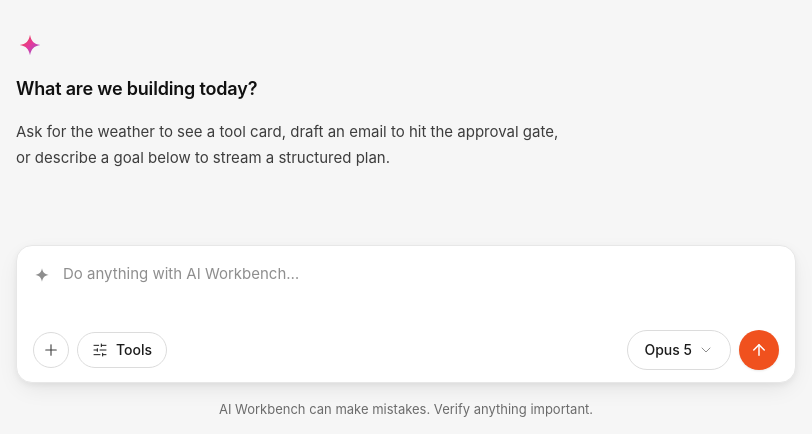
Scenario: answer feedback › offers no rating when the turn was not traced
The width and height of the screenshot is (812, 434).
Type "Saluda" into the text box at {"x": 421, "y": 290}, box [63,262,779,318]
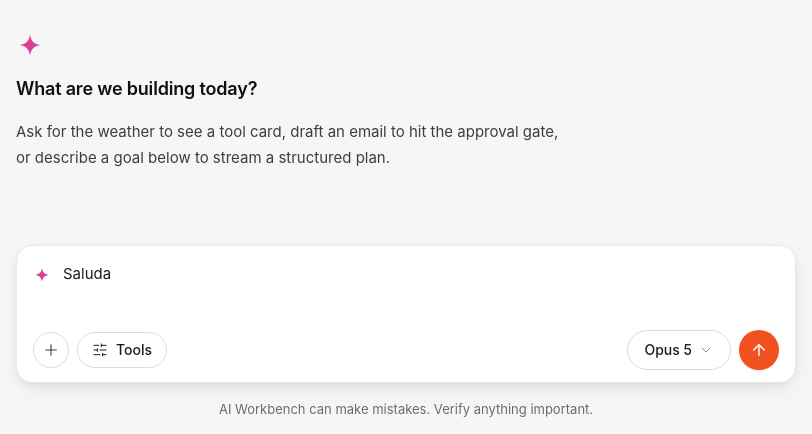
Click the button named "send" at {"x": 759, "y": 350}, box [739,330,779,370]
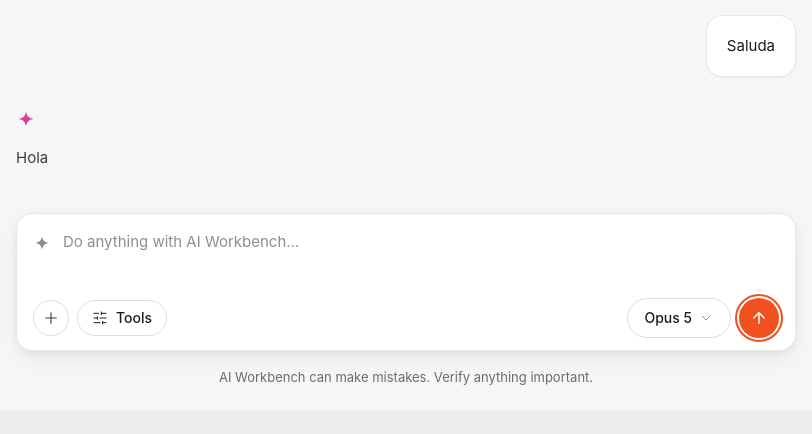
Check: the text "Hola" is shown, box [16,148,48,167]
